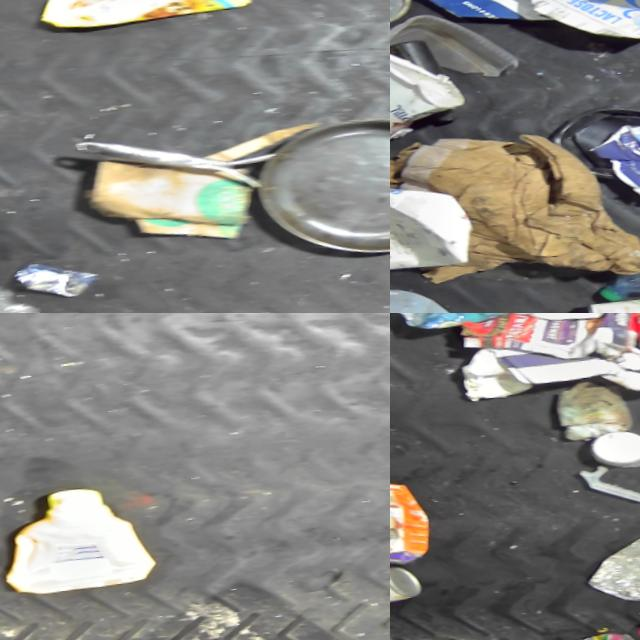can: (579, 285, 640, 313), (390, 561, 416, 609)
non_white_jug: (0, 473, 155, 599), (390, 313, 590, 337)
plastic_bottle: (586, 206, 640, 304)
